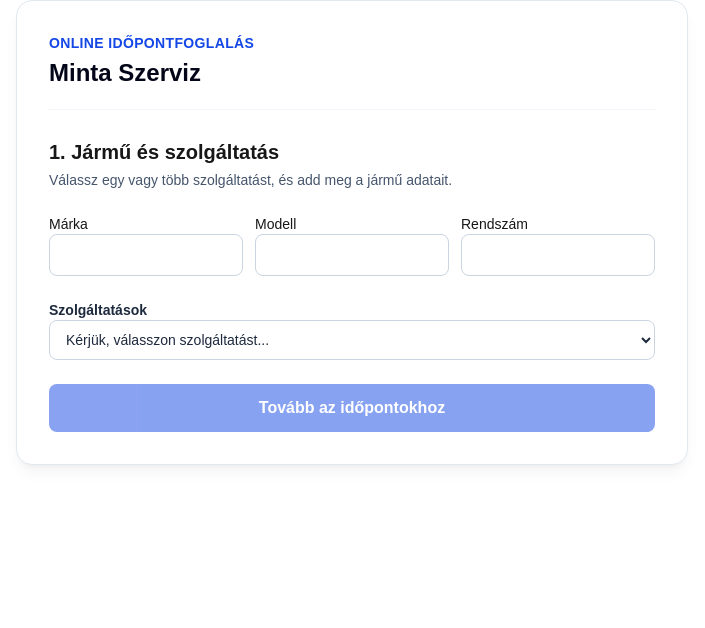
Scenario: BookingWidget › adds a service, displays its price and duration, and allows it to be removed
Select "Olajcsere - 12 500 Ft - 45 perc" in the dropdown labelled "Szolgáltatások" at (352, 340), box left=49, top=320, right=655, bottom=360
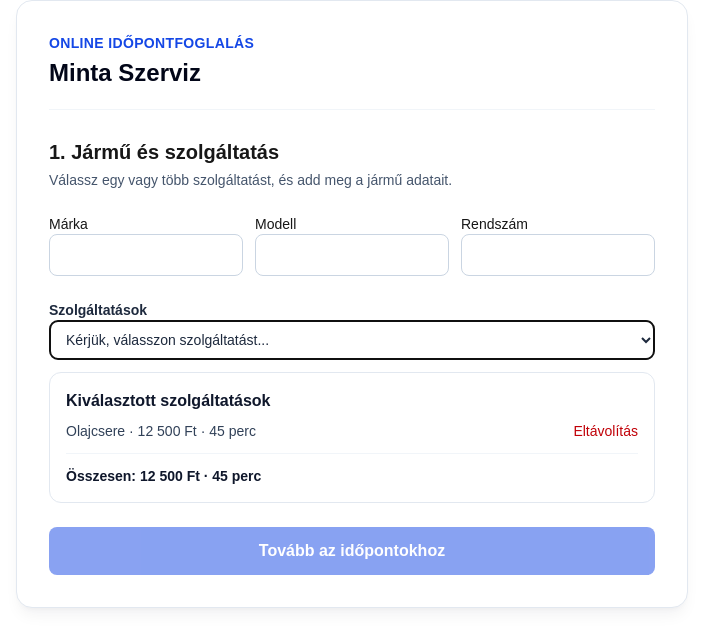
Expected: the text "Összesen: 12 500 Ft · 45 perc" is shown, left=66, top=453, right=638, bottom=486
Click the button with aria-label "Olajcsere eltávolítása".
click(606, 431)  # box left=573, top=421, right=638, bottom=441
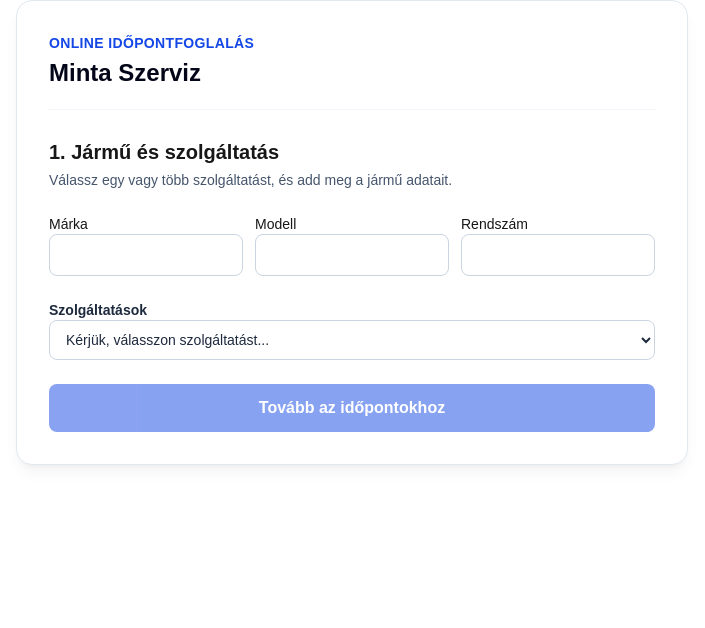
Expected: the button "Tovább az időpontokhoz" is disabled, left=49, top=384, right=655, bottom=432
Expected: the heading "Kiválasztott szolgáltatások" is gone
